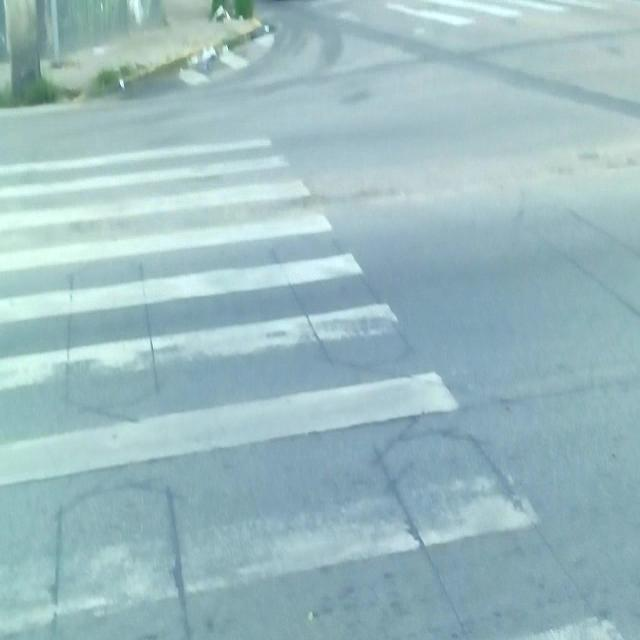crosswalk: (0, 87, 640, 640)
